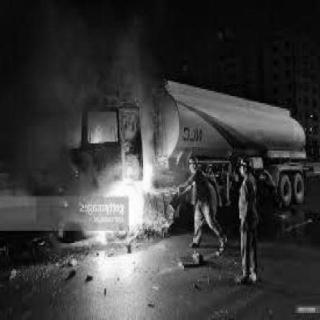Fire: (78, 142, 170, 260)
